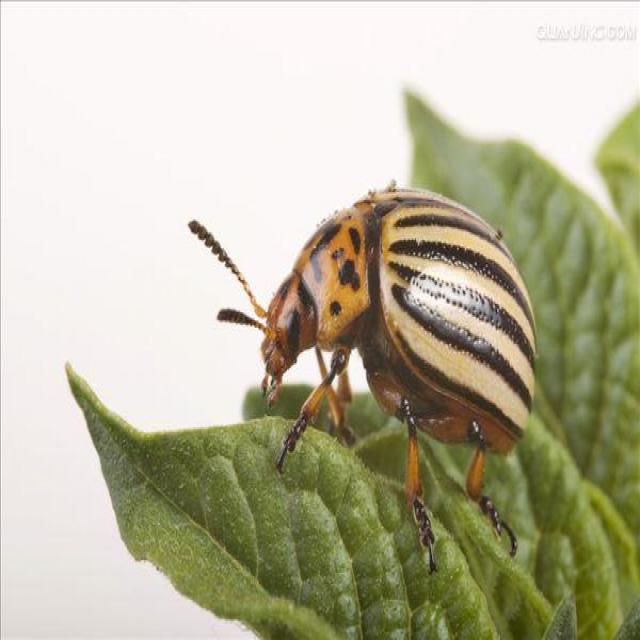ShuCaiHuaBanChong-Grown-: (267, 161, 582, 536)
